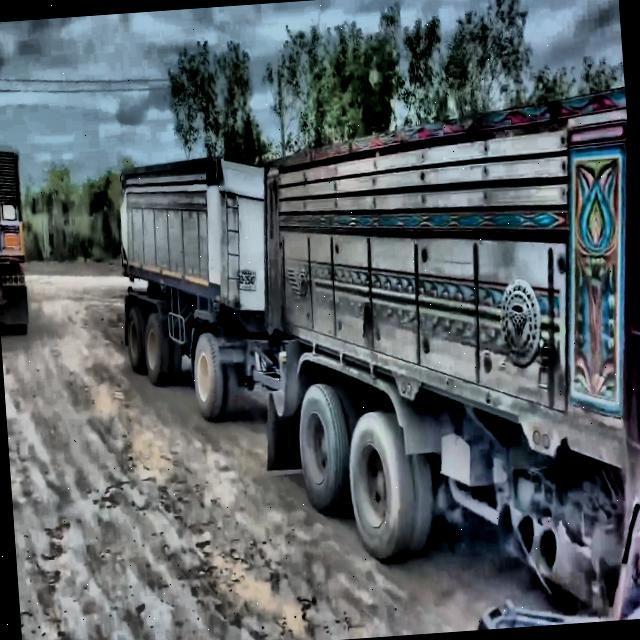trailer: (107, 88, 640, 640)
